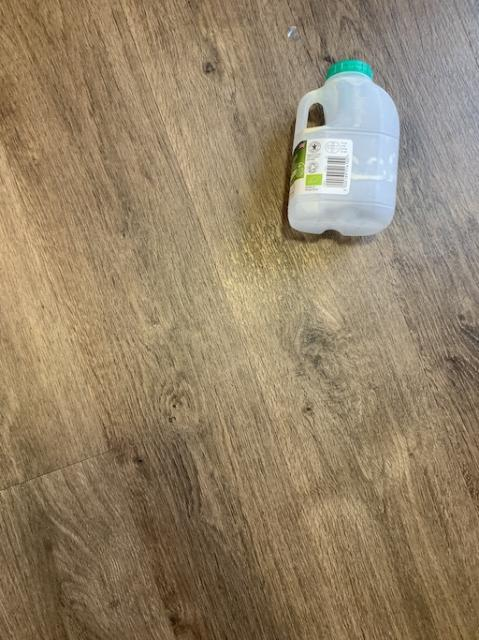plastic: (288, 59, 398, 234)
